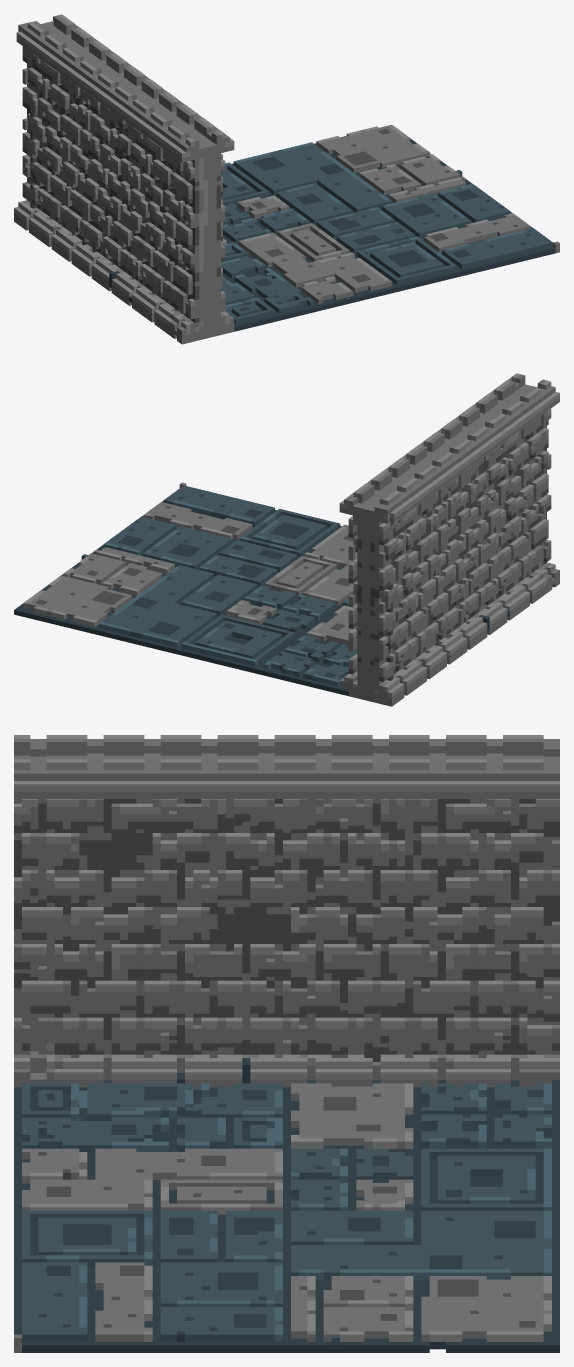
File: wall_E_solo_derecha.obj
3 renders of one model, top to bottom at view 1: azimuth 30°, elevation 25°; view 2: azimuth 150°, elevation 25°; view 3: azimuth 270°, elevation 25°, orthographic. The views are drawn at different scales.
Size of the model in its own units: 87 by 44 by 67.
Materials: 1 (1 with a texture image).
